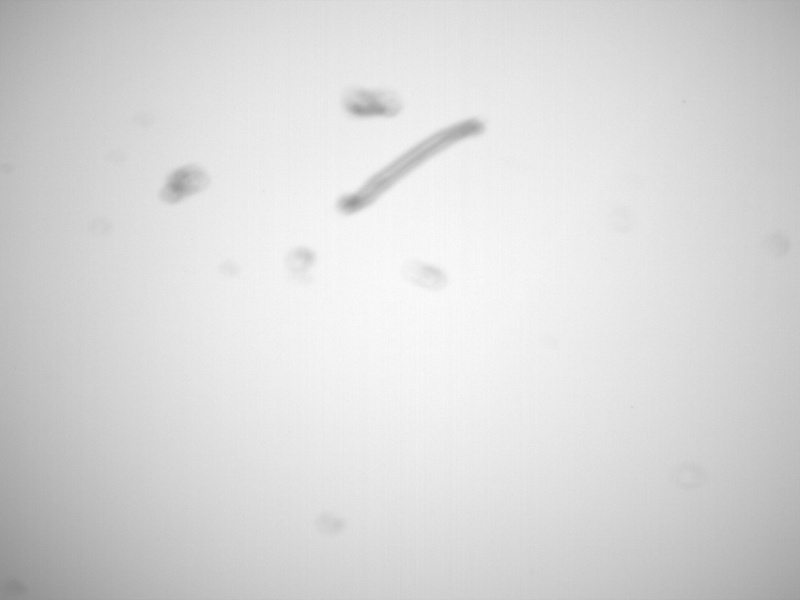fiber: (336, 116, 489, 216)
